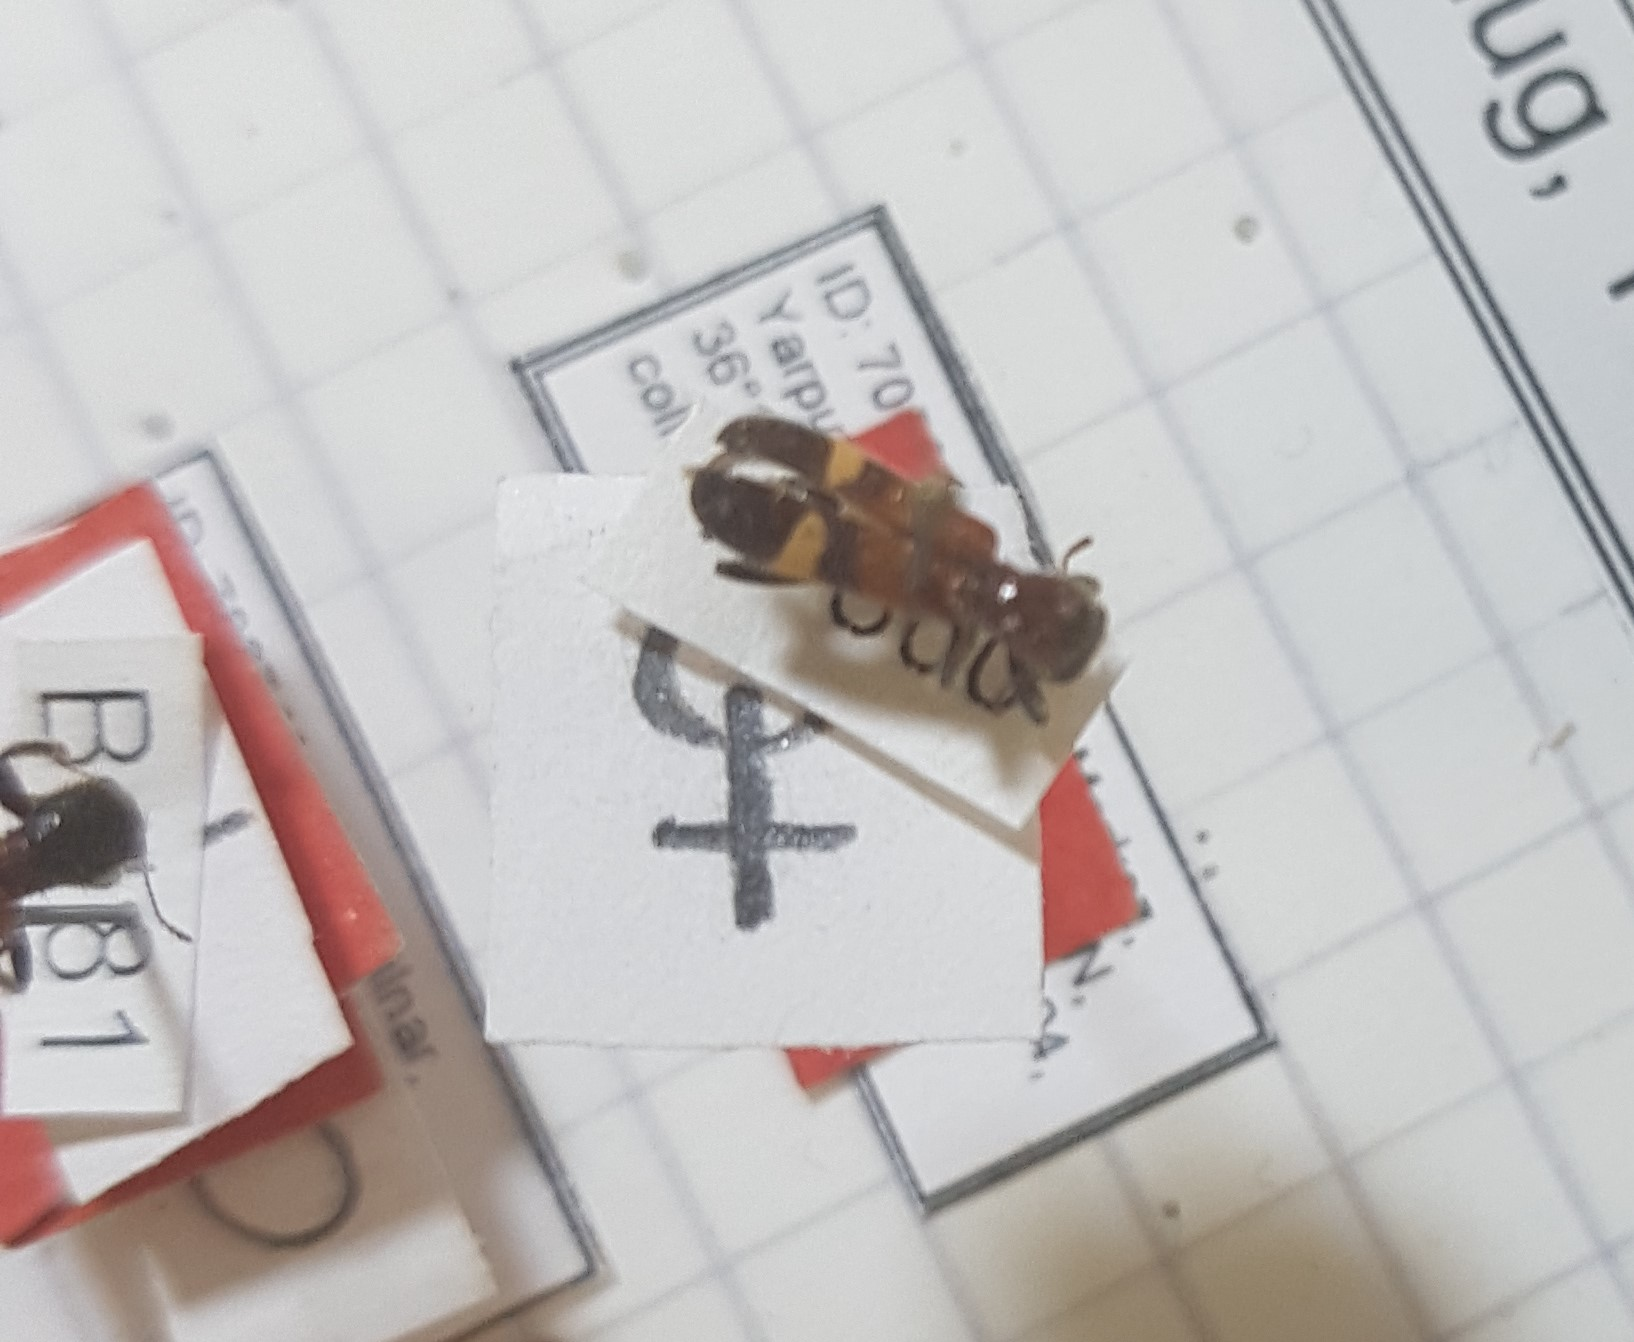opilo_taeniatus: (672, 404, 1120, 729)
